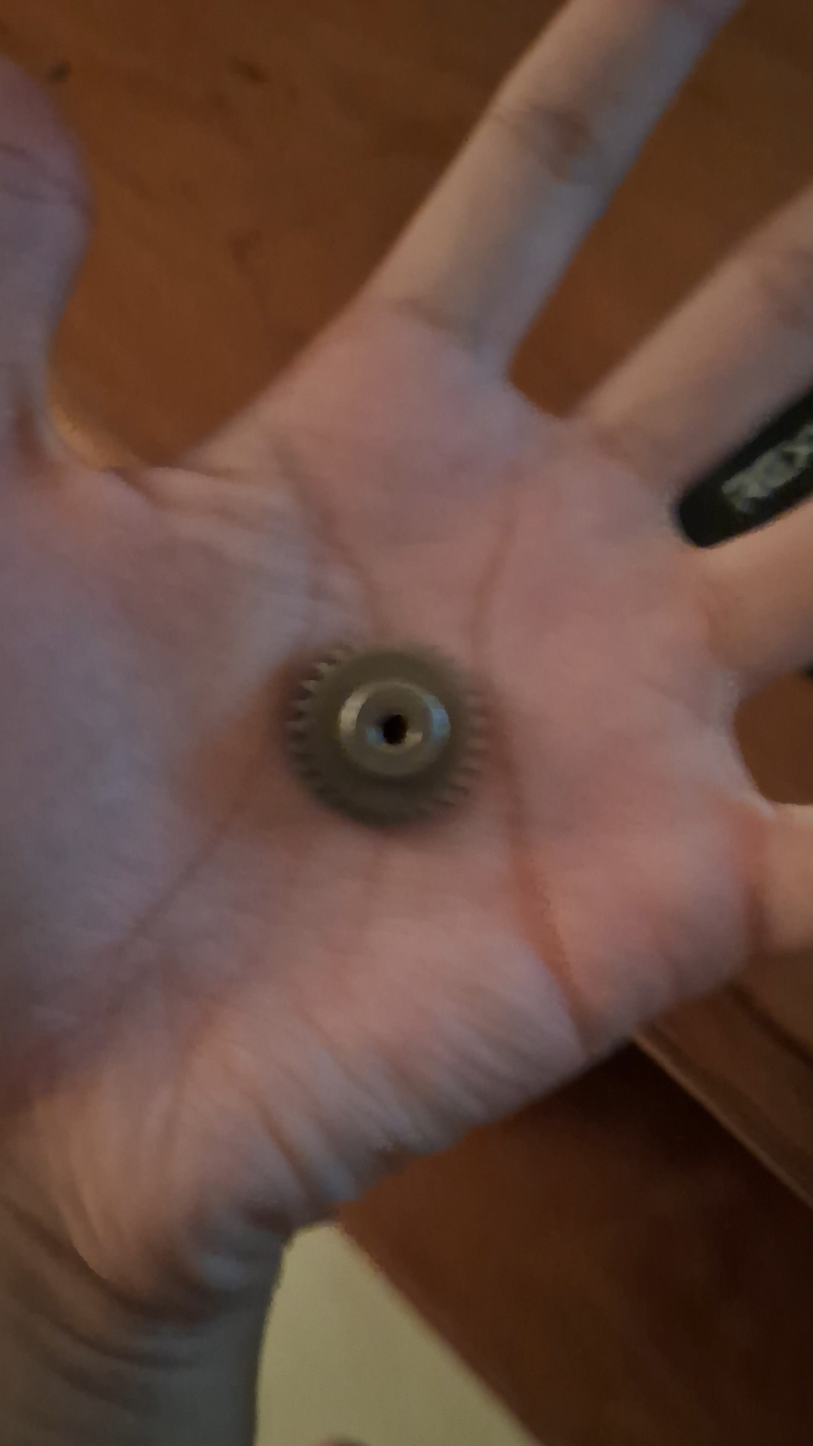spur gear: (287, 644, 484, 829)
